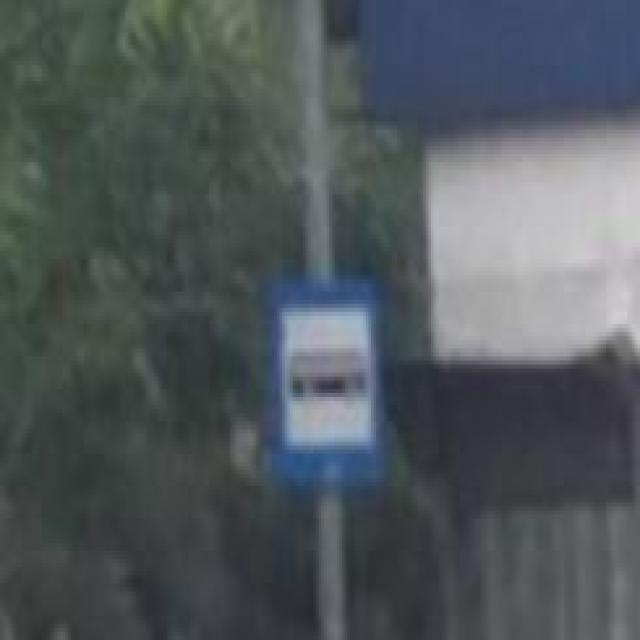traffic sign: (266, 276, 384, 494)
